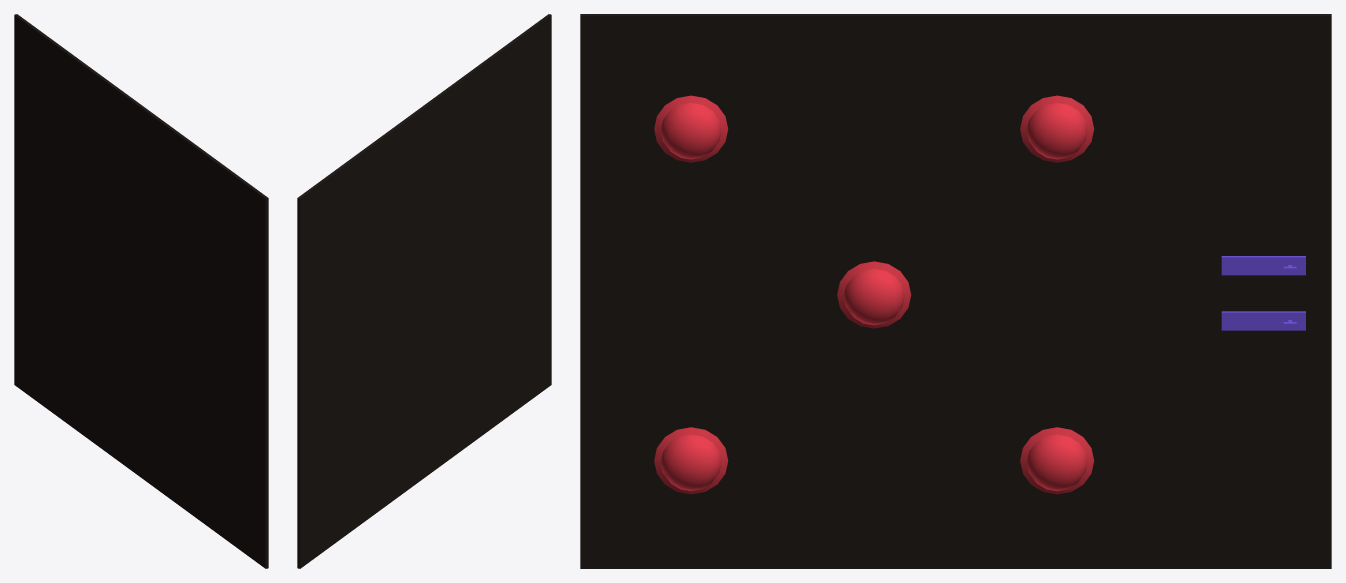
The model's file is reactionwallblockout.fbx.
3 views of the same model, side by side, from view 1: azimuth 30°, elevation 25°; view 2: azimuth 150°, elevation 25°; view 3: azimuth 270°, elevation 25° (orthographic). The views are drawn at different scales.
Parts seen in each view (by area): view 1: Plane; view 2: Plane; view 3: Plane, Sphere.003, Sphere.004, Sphere.001, Sphere.002, Sphere, Plane.001, Plane.002.
Boxes of the visible parts, x1,y1,x2,y2 form: Plane: (14,14,268,568); Plane: (297,14,551,568); Plane: (580,14,1331,568); Sphere.003: (1020,427,1094,494); Sphere.004: (654,427,728,494); Sphere.001: (1020,95,1094,162); Sphere.002: (654,95,728,162); Sphere: (837,261,911,328); Plane.001: (1221,311,1305,330); Plane.002: (1221,256,1305,275).
Bounding box in the file's own units: 5.9 × 100 × 123.
